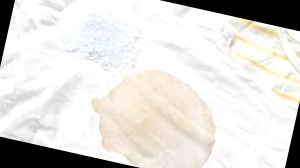coffee: (80, 58, 228, 168)
